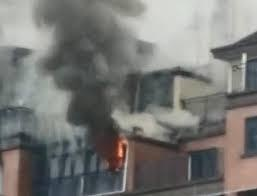fire: (103, 135, 126, 168)
